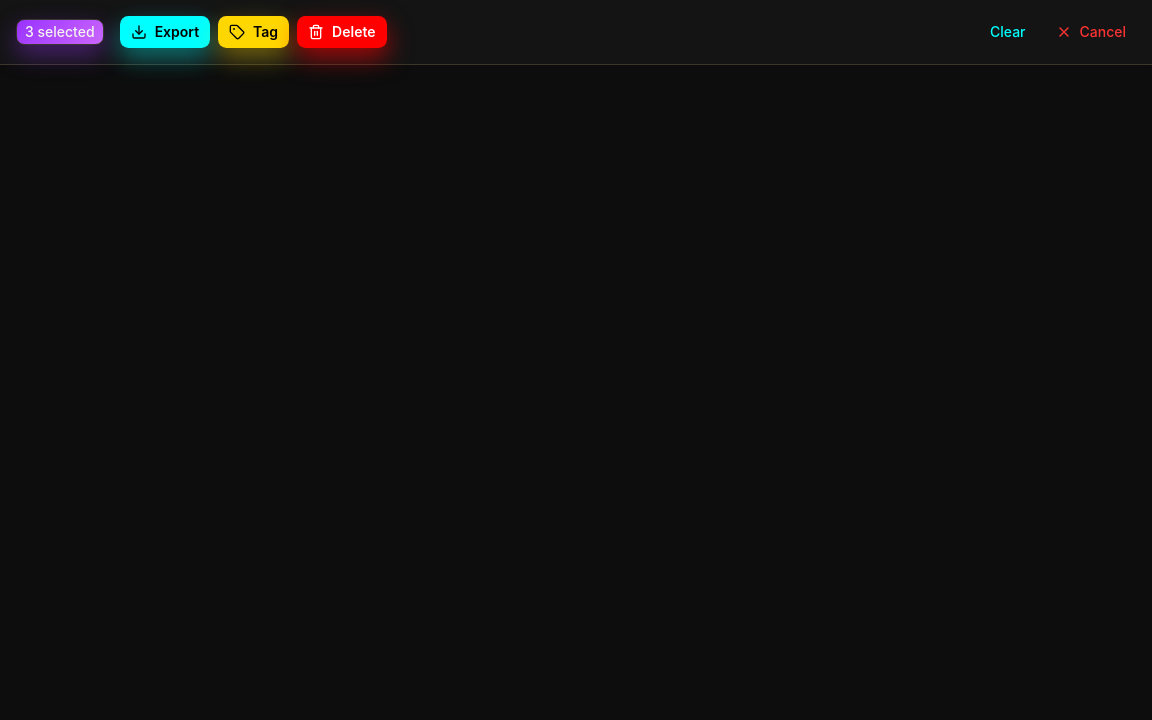
Scenario: BatchActions Component › Selection Mode Enabled - Items Selected › clicking Delete button opens delete dialog
Click the button "Delete": (342, 32) x1=297 y1=16 x2=386 y2=48
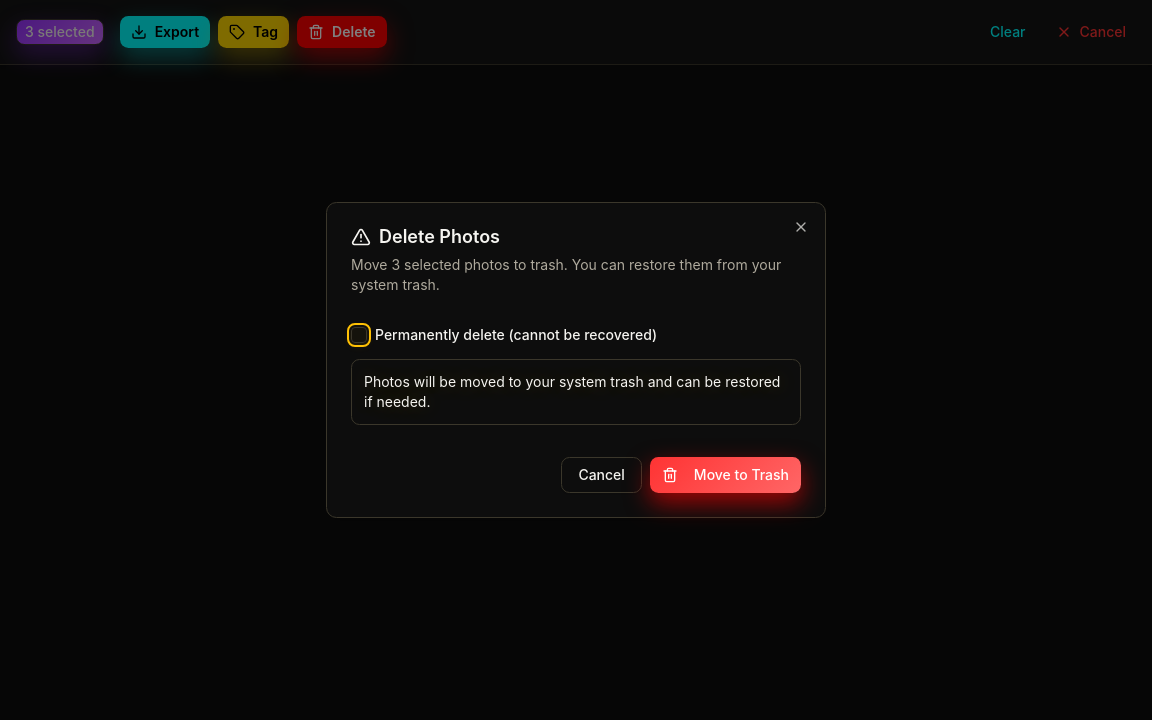
Check: the heading "Delete Photos" is shown, box x1=351 y1=226 x2=500 y2=247
